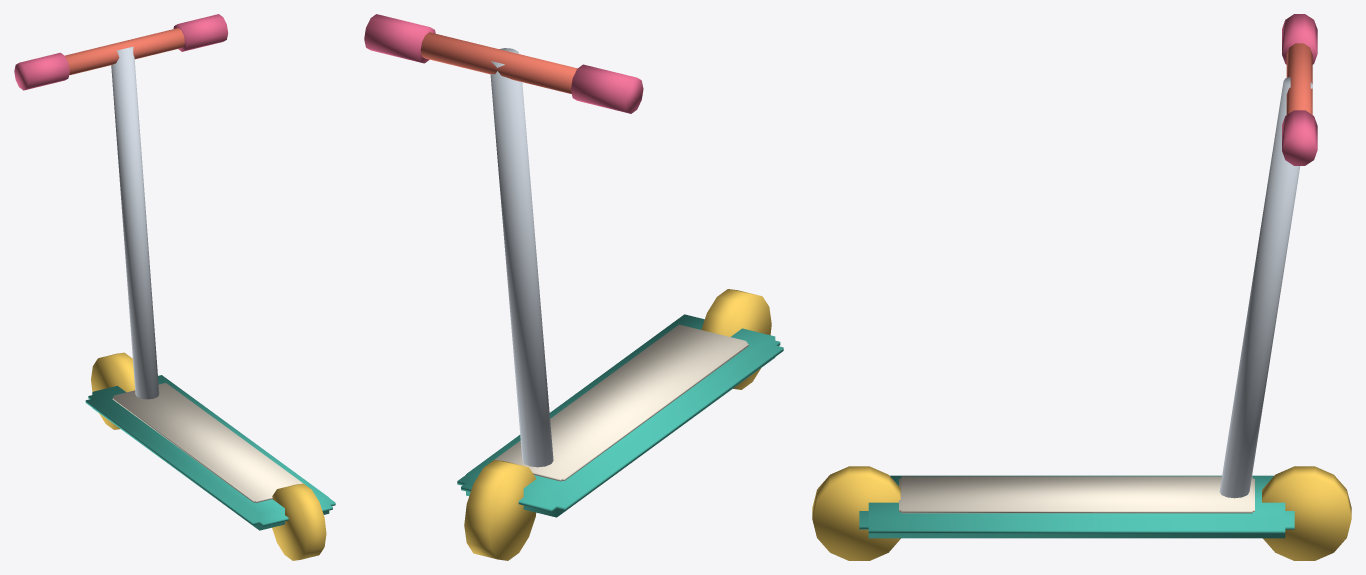
Rendered from Scooter.fbx.
3 renders of one model, left to right at view 1: azimuth 30°, elevation 25°; view 2: azimuth 150°, elevation 25°; view 3: azimuth 270°, elevation 25°, orthographic. The views are drawn at different scales.
Parts seen in each view (by area): view 1: Scooter; view 2: Scooter; view 3: Scooter.
Boxes of the visible parts, bbox=[...] form: Scooter: bbox=[14, 14, 335, 560]; Scooter: bbox=[364, 14, 783, 560]; Scooter: bbox=[812, 14, 1351, 560].
Bounding box in the file's own units: 0.58 × 1.07 × 1.09.
